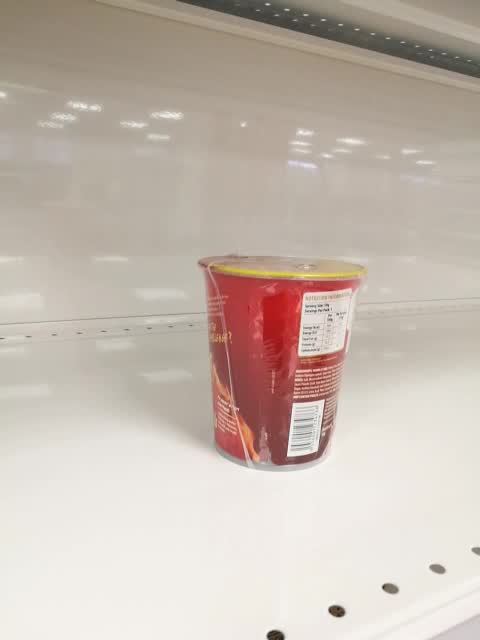maggi: (199, 254, 366, 472)
